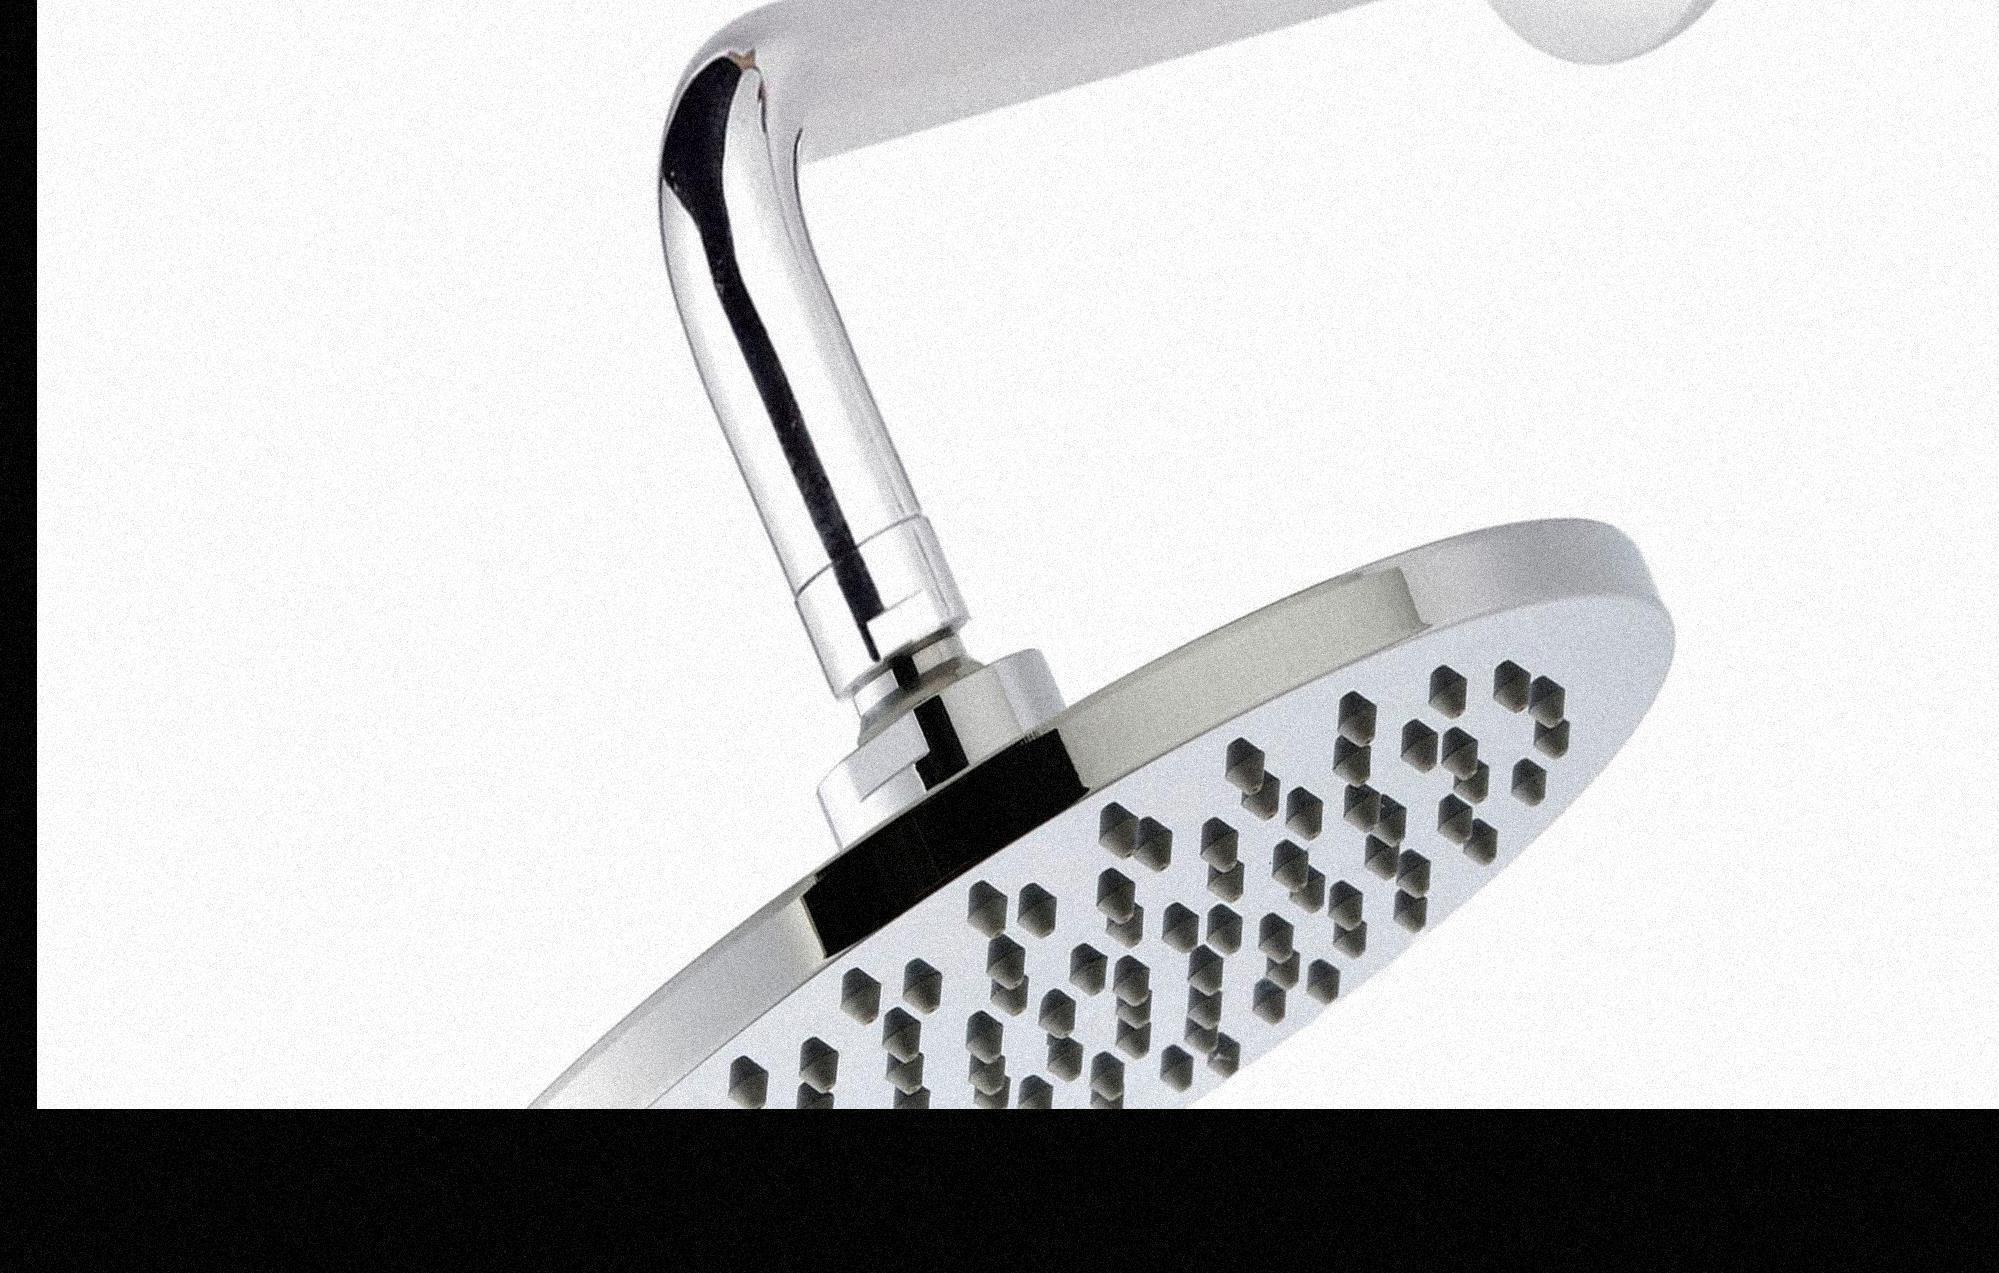Ducha: (428, 0, 1727, 1108)
